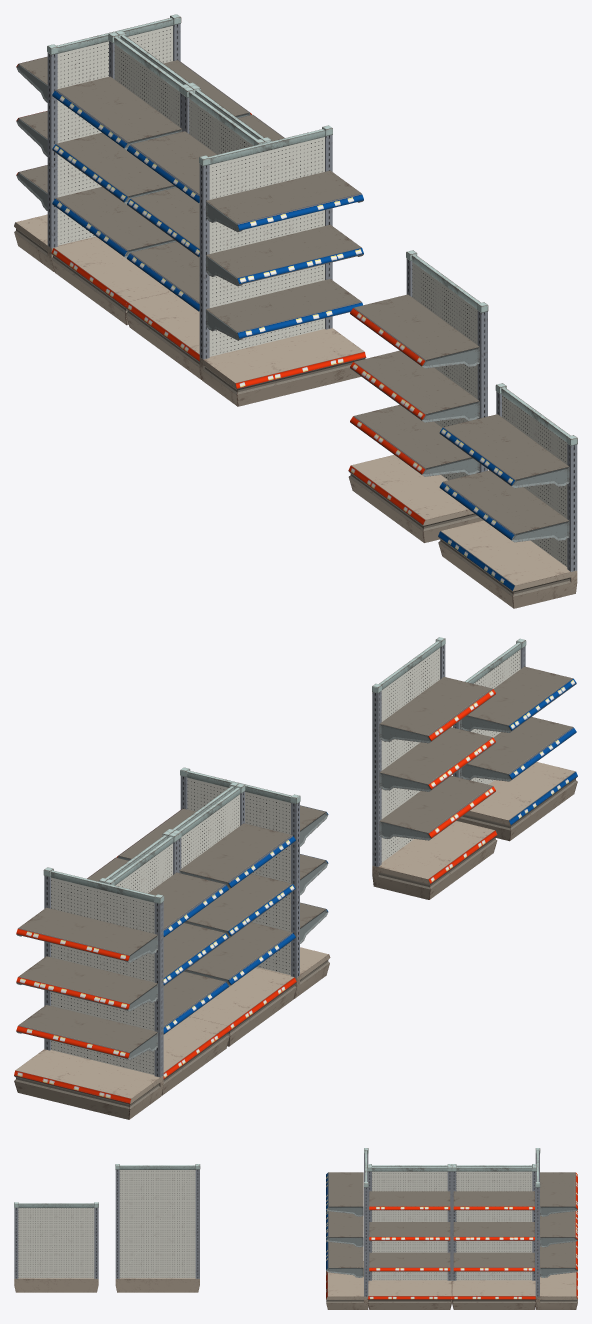
The model's file is shelving_SF.FBX.
3 renders of one model, top to bottom at view 1: azimuth 30°, elevation 25°; view 2: azimuth 150°, elevation 25°; view 3: azimuth 270°, elevation 25°, orthographic. The views are drawn at different scales.
Parts seen in each view (by area): view 1: shelf_Base_Expo004, shelf_Base_shortexp, shelf_Base_Expo006, shelf_Base_Expo005, shelf_Base_Expo001, shelf_Base_Expo, shelf_piece_exp031, shelf_piece_exp030, shelf_piece_exp004, shelf_piece_exp022, shelf_piece_exp029, shelf_piece_exp003 (+12 smaller); view 2: shelf_Base_Expo005, shelf_Base_Expo006, shelf_Base_Expo004, shelf_Base_Expo, shelf_Base_shortexp, shelf_Base_Expo001, shelf_piece_exp017, shelf_piece_exp019, shelf_piece_exp018, shelf_piece_exp022, shelf_piece_exp021, shelf_piece_exp020 (+12 smaller); view 3: shelf_Base_Expo006, shelf_Base_shortexp, shelf_Base_Expo003, shelf_Base_Expo002, shelf_Base_Expo004, shelf_Base_Expo005, shelf_piece_exp011, shelf_piece_exp008, shelf_piece_exp010, shelf_piece_exp013, shelf_piece_exp031, shelf_piece_exp019 (+8 smaller).
Boxes of the visible parts, <box> form: shelf_Base_Expo004: <box>199,125,366,406</box>; shelf_Base_shortexp: <box>438,383,577,608</box>; shelf_Base_Expo006: <box>348,250,488,542</box>; shelf_Base_Expo005: <box>14,14,181,271</box>; shelf_Base_Expo001: <box>51,32,189,325</box>; shelf_Base_Expo: <box>125,87,264,379</box>; shelf_piece_exp031: <box>206,170,363,232</box>; shelf_piece_exp030: <box>206,224,363,286</box>; shelf_piece_exp004: <box>439,414,569,488</box>; shelf_piece_exp022: <box>350,294,479,368</box>; shelf_piece_exp029: <box>206,279,362,340</box>; shelf_piece_exp003: <box>439,470,569,542</box>; shelf_Base_Expo005: <box>14,867,164,1119</box>; shelf_Base_Expo006: <box>372,637,497,899</box>; shelf_Base_Expo004: <box>180,767,330,998</box>; shelf_Base_Expo: <box>172,783,296,1046</box>; shelf_Base_shortexp: <box>453,638,577,841</box>; shelf_Base_Expo001: <box>104,832,230,1095</box>; shelf_piece_exp017: <box>16,1005,157,1060</box>; shelf_piece_exp019: <box>16,907,157,962</box>; shelf_piece_exp018: <box>16,956,157,1011</box>; shelf_piece_exp022: <box>379,677,495,743</box>; shelf_piece_exp021: <box>379,727,495,791</box>; shelf_piece_exp020: <box>379,776,495,840</box>; shelf_Base_Expo006: <box>115,1164,200,1292</box>; shelf_Base_shortexp: <box>14,1202,98,1292</box>; shelf_Base_Expo003: <box>367,1166,451,1309</box>; shelf_Base_Expo002: <box>451,1166,536,1309</box>; shelf_Base_Expo004: <box>326,1148,368,1309</box>; shelf_Base_Expo005: <box>535,1148,577,1309</box>; shelf_piece_exp011: <box>369,1252,450,1272</box>; shelf_piece_exp008: <box>453,1252,534,1272</box>; shelf_piece_exp010: <box>453,1191,534,1210</box>; shelf_piece_exp013: <box>369,1191,450,1210</box>; shelf_piece_exp031: <box>326,1172,363,1216</box>; shelf_piece_exp019: <box>540,1172,577,1216</box>.
Bounding box in the file's own units: 101 × 166 × 668.
